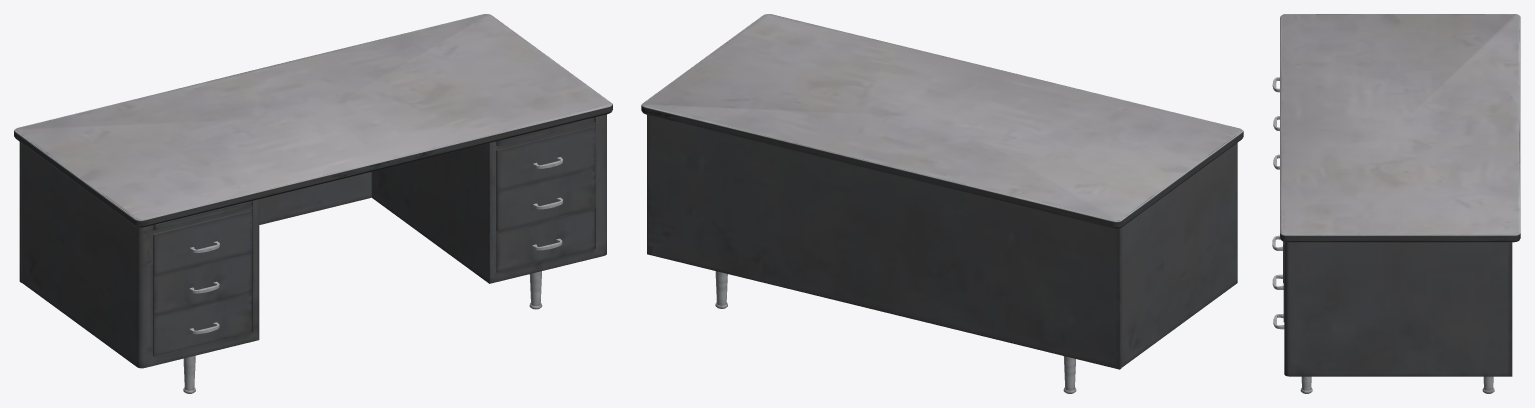
File: metal_office_desk.glb
The picture shows the model from 3 angles, left to right: view 1: azimuth 30°, elevation 25°; view 2: azimuth 150°, elevation 25°; view 3: azimuth 270°, elevation 25°; orthographic projection. The views are drawn at different scales.
Parts seen in each view (by area): view 1: metal_office_desk_drawer_06; view 2: metal_office_desk_drawer_06; view 3: metal_office_desk_drawer_06.
Boxes of the visible parts, <box> form: metal_office_desk_drawer_06: <box>14,14,612,393</box>; metal_office_desk_drawer_06: <box>641,14,1243,393</box>; metal_office_desk_drawer_06: <box>1272,14,1520,393</box>.
Size of the model in its own units: 2 by 0.7874 by 0.9469.
Materials: 1 (1 with a texture image).
